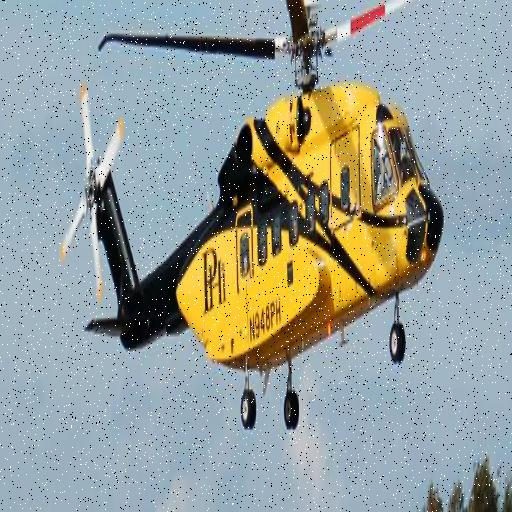helicopter: (58, 1, 425, 433)
